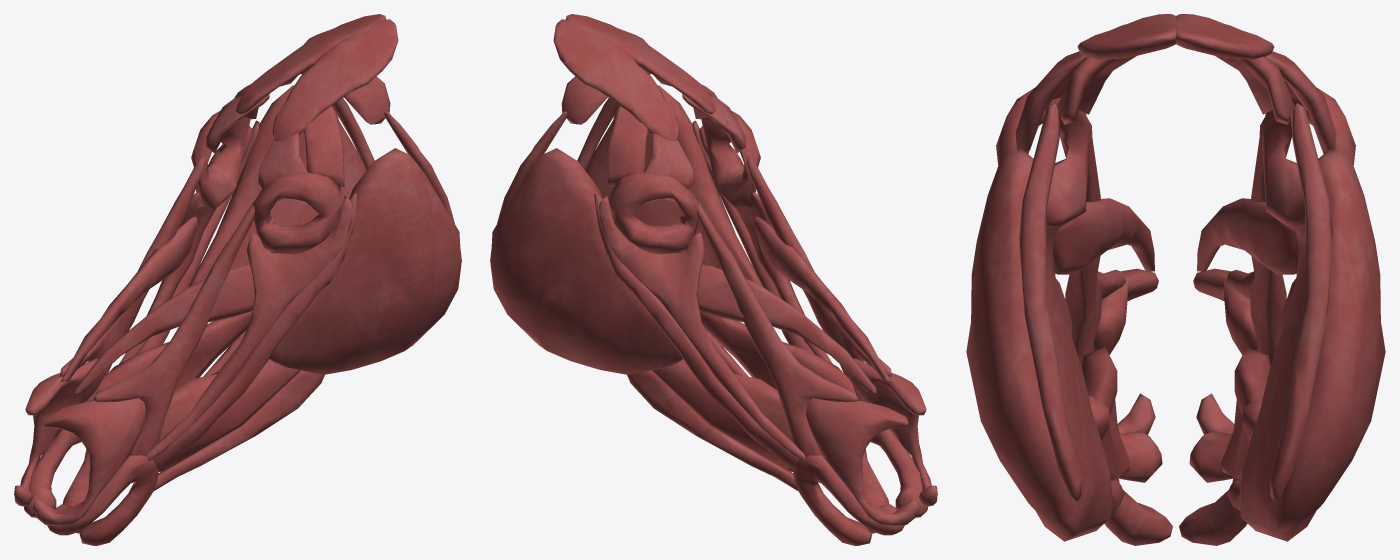
Rendered from Facial_Muscles.glb.
3 renders of one model, left to right at view 1: azimuth 30°, elevation 25°; view 2: azimuth 150°, elevation 25°; view 3: azimuth 270°, elevation 25°, orthographic. The views are drawn at different scales.
Visible parts, largest first — view 1: facial_muscles; view 2: facial_muscles; view 3: facial_muscles.
Part boxes in pixels (x1,y1,x2,y2): facial_muscles: (14,14,461,545); facial_muscles: (490,14,937,545); facial_muscles: (966,14,1385,545).
Bounding box in the file's own units: 0.4723 × 0.4972 × 0.249.
1 material, 1 textured.
